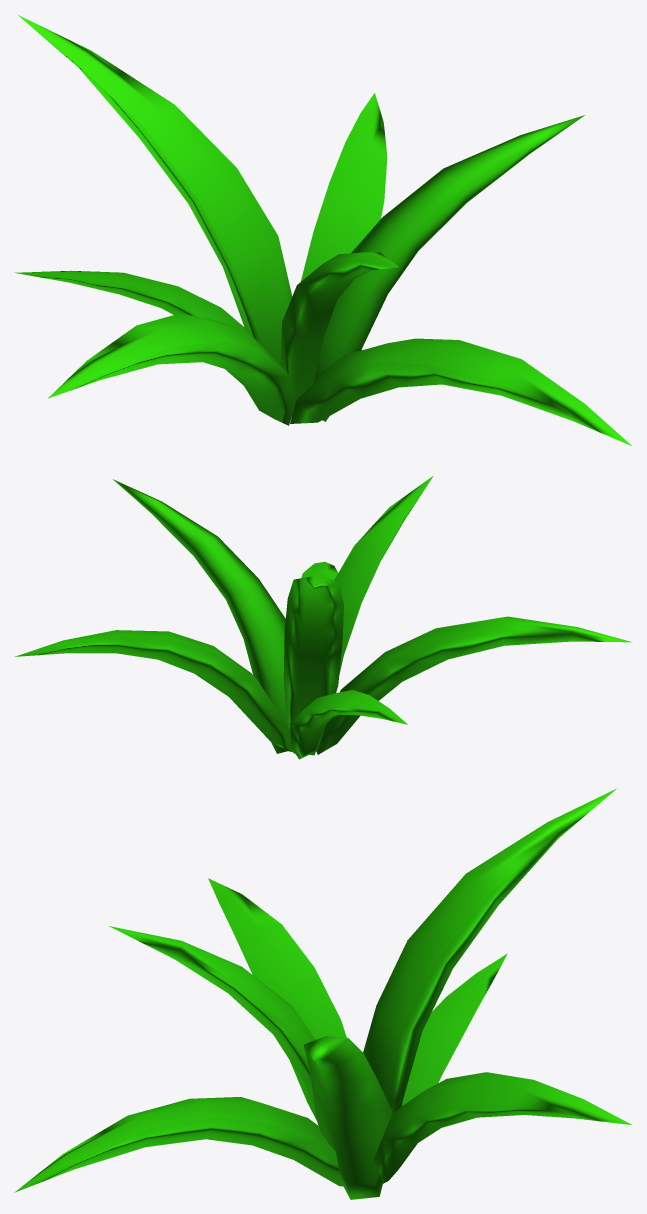
Rendered from Alovera.fbx.
The picture shows the model from 3 angles, top to bottom: view 1: azimuth 30°, elevation 25°; view 2: azimuth 150°, elevation 25°; view 3: azimuth 270°, elevation 25°; orthographic projection. The views are drawn at different scales.
Parts seen in each view (by area): view 1: iner, Outer; view 2: iner, Outer; view 3: Outer, iner.
Part boxes in pixels (box(x1,y1,x2,y2)): iner: box(17, 14, 584, 421); Outer: box(14, 93, 632, 446); iner: box(113, 475, 433, 755); Outer: box(14, 561, 632, 759); Outer: box(14, 878, 632, 1192); iner: box(109, 788, 616, 1199).
Bounding box in the file's own units: 161 × 89.99 × 152.
